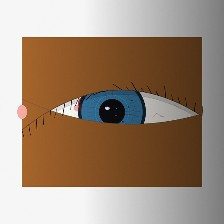hemorrhage_spot: (68, 75, 140, 132)
